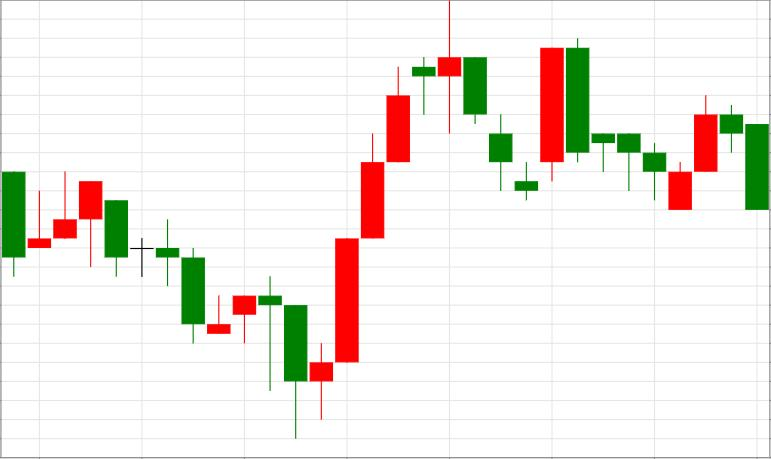three_white_soldiers_rise: (156, 65, 410, 439)
